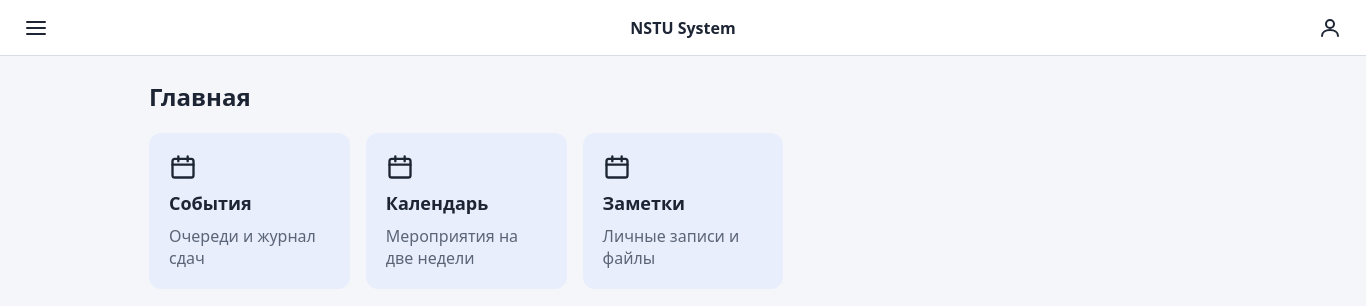
Test: оболочка интерфейса и иконка пользователя › сайдбар администратора содержит «Администрирование», иконка показывает мини-инфо
Expected: the list with test id "module-grid" is shown, 149,133 -> 783,289
Click the button named "Пользователь": point(1330, 28) 1310,8 -> 1350,48
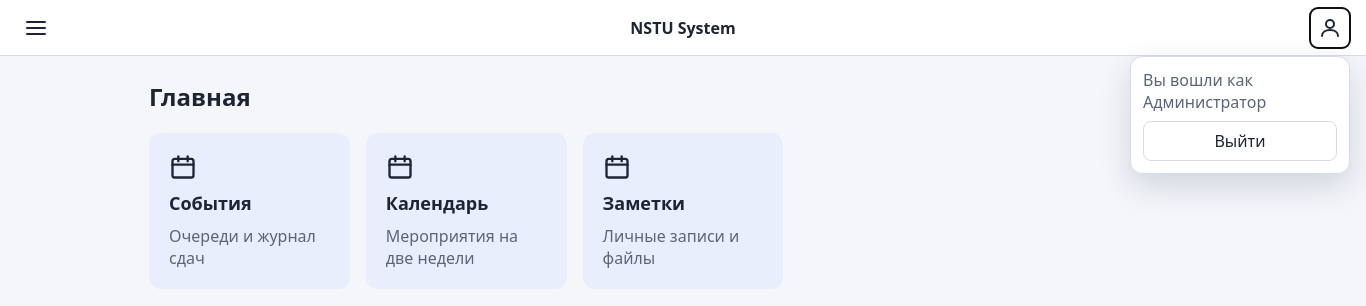
Expected: the text "Вы вошли как Администратор" is shown, 1143,68 -> 1266,112
